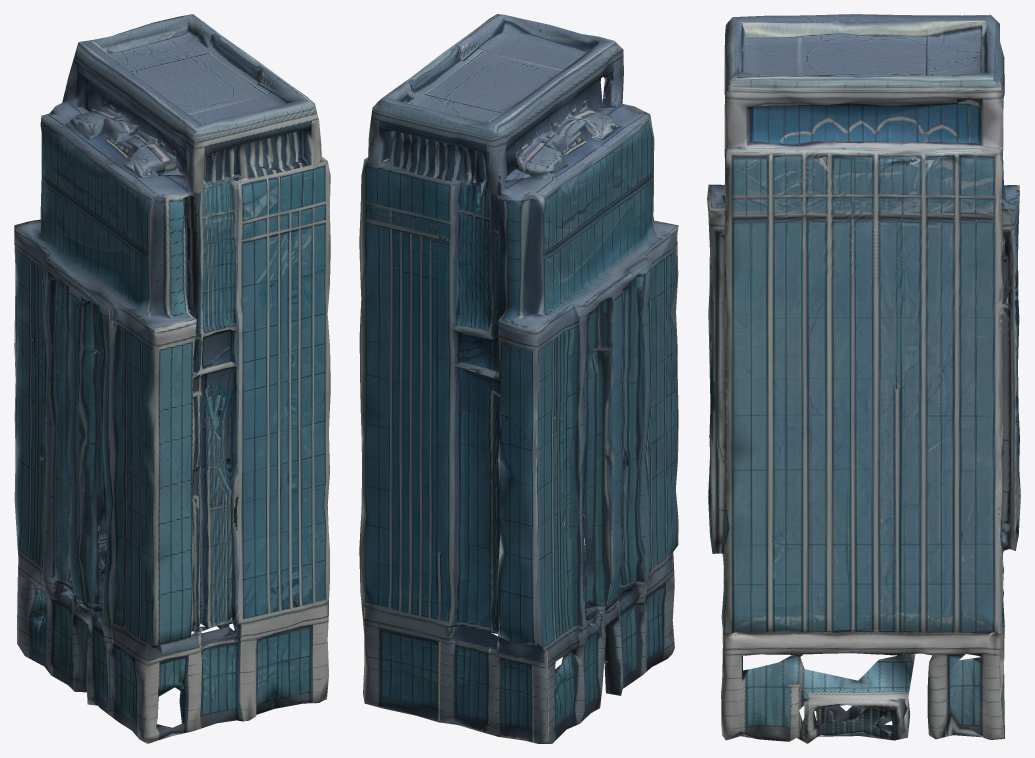
Rendered from KR_OfficeTower_01.glb.
3 views of the same model, side by side, from view 1: azimuth 30°, elevation 25°; view 2: azimuth 150°, elevation 25°; view 3: azimuth 270°, elevation 25° (orthographic). The views are drawn at different scales.
Visible parts, largest first — view 1: texture_mapping; view 2: texture_mapping; view 3: texture_mapping.
Part boxes in pixels (left/top/right/bottom): texture_mapping: left=14, top=14, right=330, bottom=743; texture_mapping: left=359, top=14, right=678, bottom=743; texture_mapping: left=707, top=14, right=1020, bottom=743.
Bounding box in the file's own units: 0.3468 × 1 × 0.4324.
1 material, 1 textured.
